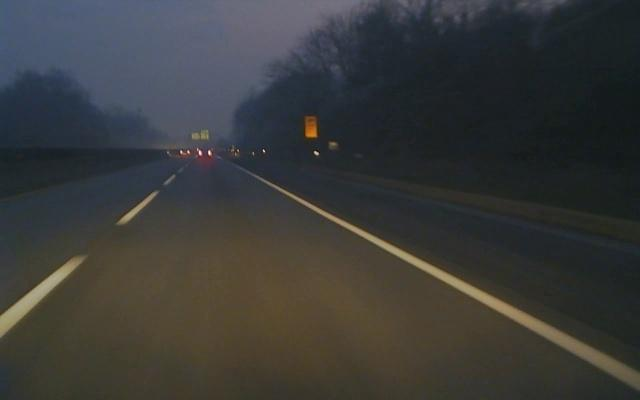lane: (231, 161, 640, 393), (0, 153, 199, 342)
